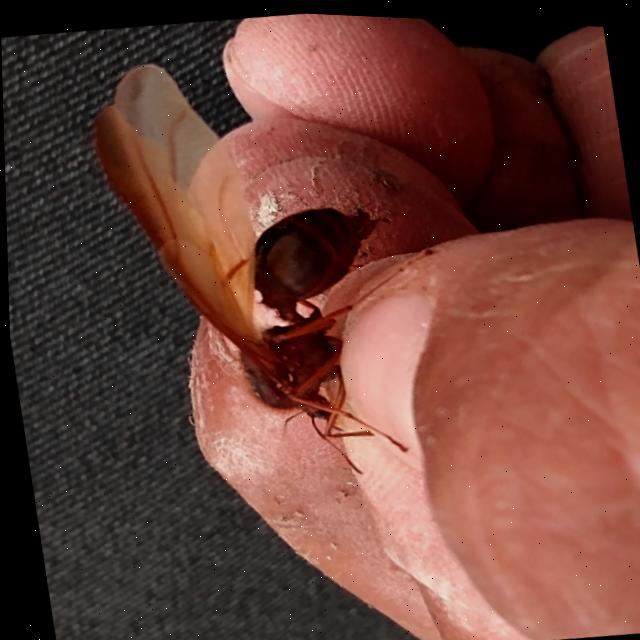Alive-Male-Alate: (81, 28, 463, 502)
